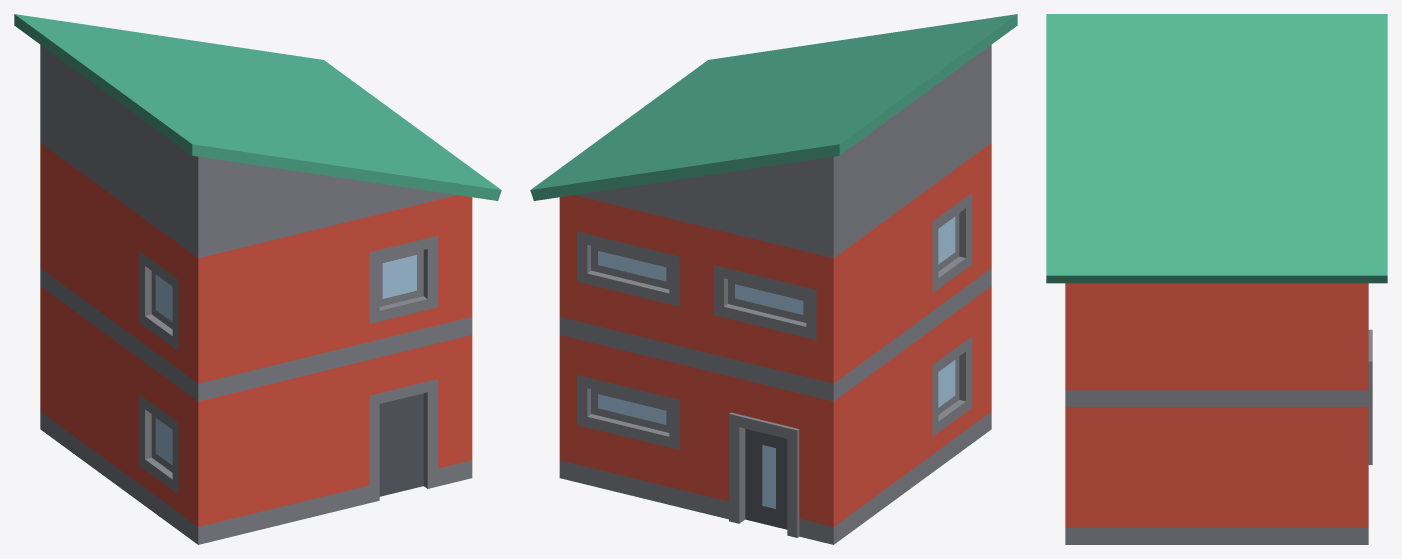
The model's file is house_type15.fbx.
The picture shows the model from 3 angles, left to right: view 1: azimuth 30°, elevation 25°; view 2: azimuth 150°, elevation 25°; view 3: azimuth 270°, elevation 25°; orthographic projection. The views are drawn at different scales.
Parts seen in each view (by area): view 1: house_type15; view 2: house_type15; view 3: house_type15.
Part boxes in pixels (x1=…): house_type15: x1=14, y1=14, x2=501, y2=544; house_type15: x1=530, y1=14, x2=1017, y2=544; house_type15: x1=1046, y1=14, x2=1387, y2=544.
Bounding box in the file's own units: 9.04 × 11.5 × 9.
